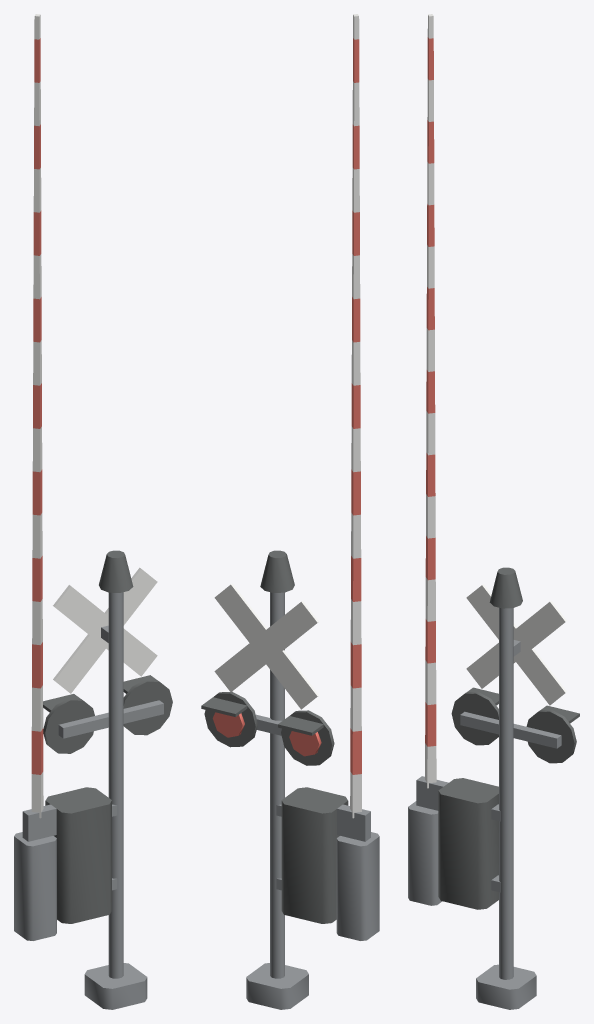
File: crossing-gate-2.glb
3 views of the same model, side by side, from view 1: azimuth 30°, elevation 25°; view 2: azimuth 150°, elevation 25°; view 3: azimuth 330°, elevation 25° (orthographic). The views are drawn at different scales.
Visible parts, largest first — view 1: crossing-gate-2; view 2: crossing-gate-2; view 3: crossing-gate-2.
Boxes of the visible parts, x1=… form: crossing-gate-2: x1=14, y1=14, x2=172, y2=1009; crossing-gate-2: x1=201, y1=14, x2=379, y2=1009; crossing-gate-2: x1=408, y1=14, x2=579, y2=1009.
Bounding box in the file's own units: 0.1668 × 1 × 0.0611.
